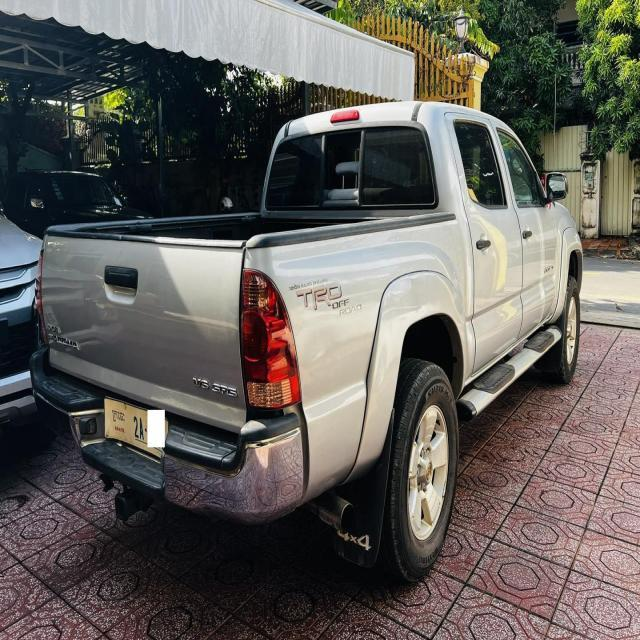Kratie: (112, 409, 126, 424)
